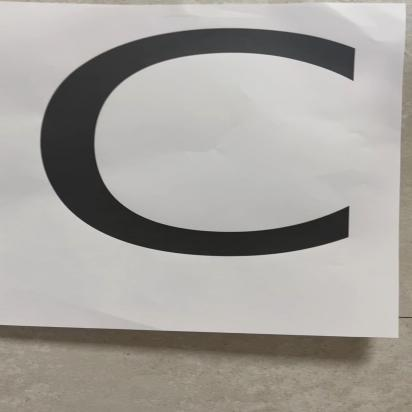seat: (7, 6, 412, 324)
